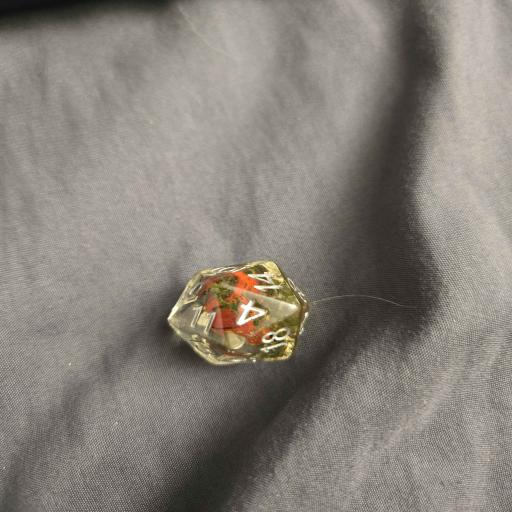twenty sided dice: (167, 260, 311, 366)
